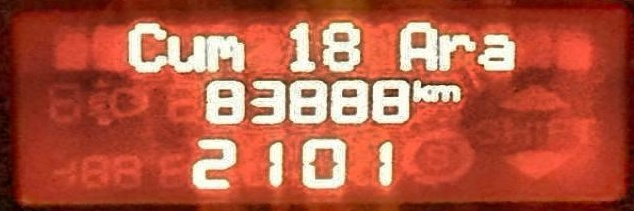0: (300, 137, 349, 190)
1: (286, 19, 316, 73), (265, 137, 285, 187), (375, 139, 395, 186)
2: (190, 135, 238, 189)
3: (249, 76, 285, 126)
8: (318, 18, 361, 73), (204, 77, 246, 123), (287, 78, 328, 124), (371, 76, 410, 124), (329, 76, 368, 122)
X: (125, 21, 166, 73), (397, 21, 438, 70), (437, 33, 478, 70), (167, 33, 205, 72), (206, 33, 245, 70), (479, 33, 516, 70), (430, 81, 460, 102), (411, 78, 429, 102)
